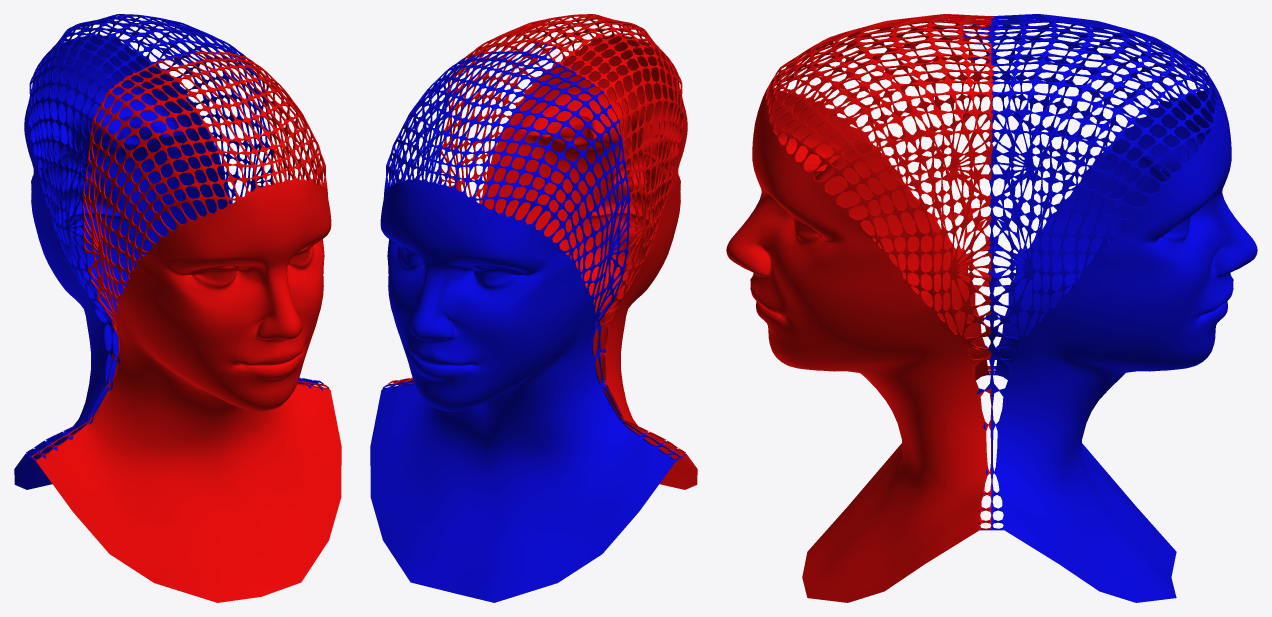
The model's file is Janus_smooth.fbx.
3 views of the same model, side by side, from view 1: azimuth 30°, elevation 25°; view 2: azimuth 150°, elevation 25°; view 3: azimuth 270°, elevation 25° (orthographic). The views are drawn at different scales.
Visible parts, largest first — view 1: Janus_Smooth; view 2: Janus_Smooth; view 3: Janus_Smooth.
Boxes of the visible parts, bbox=[...] form: Janus_Smooth: bbox=[14, 14, 341, 602]; Janus_Smooth: bbox=[370, 14, 697, 602]; Janus_Smooth: bbox=[726, 14, 1257, 602].
Size of the model in its own units: 11.44 by 17.96 by 15.77.
